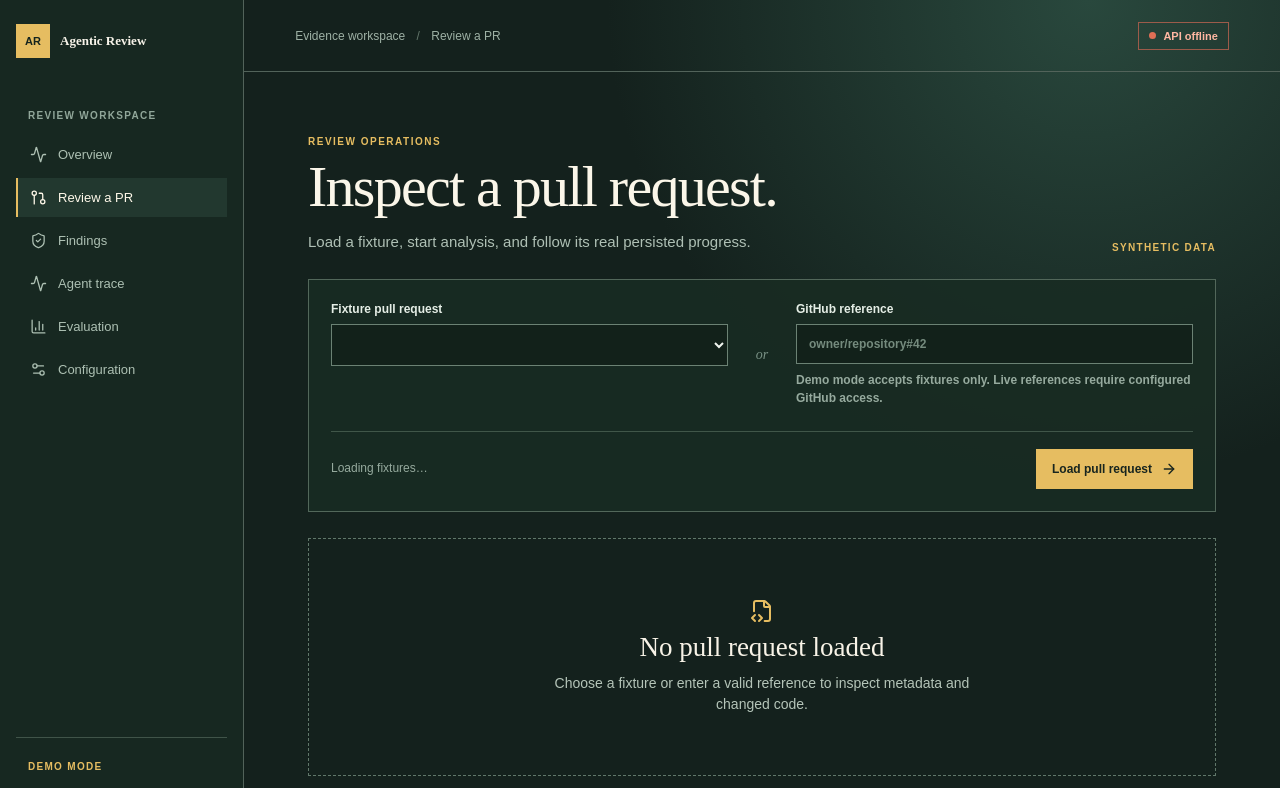
Test: dashboard › shows a loading skeleton while the preview request is pending
The image size is (1280, 788).
Click the link "Review a PR".
click(122, 198)  # box [16,178,227,217]
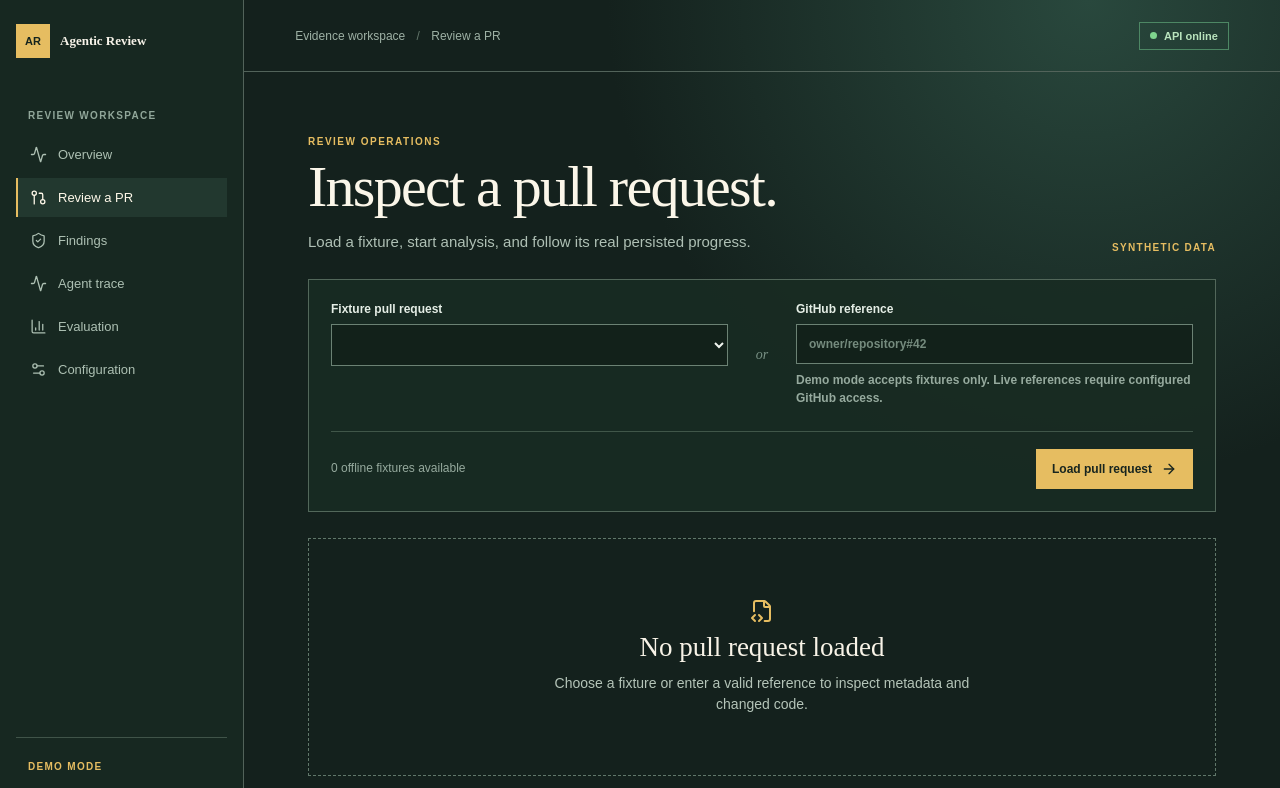
Expected: the heading "Inspect a pull request." is shown, [308,159,777,216]
Click the button "Load pull request".
click(1114, 469)  # box [1036,449,1193,489]
(page scrolled)
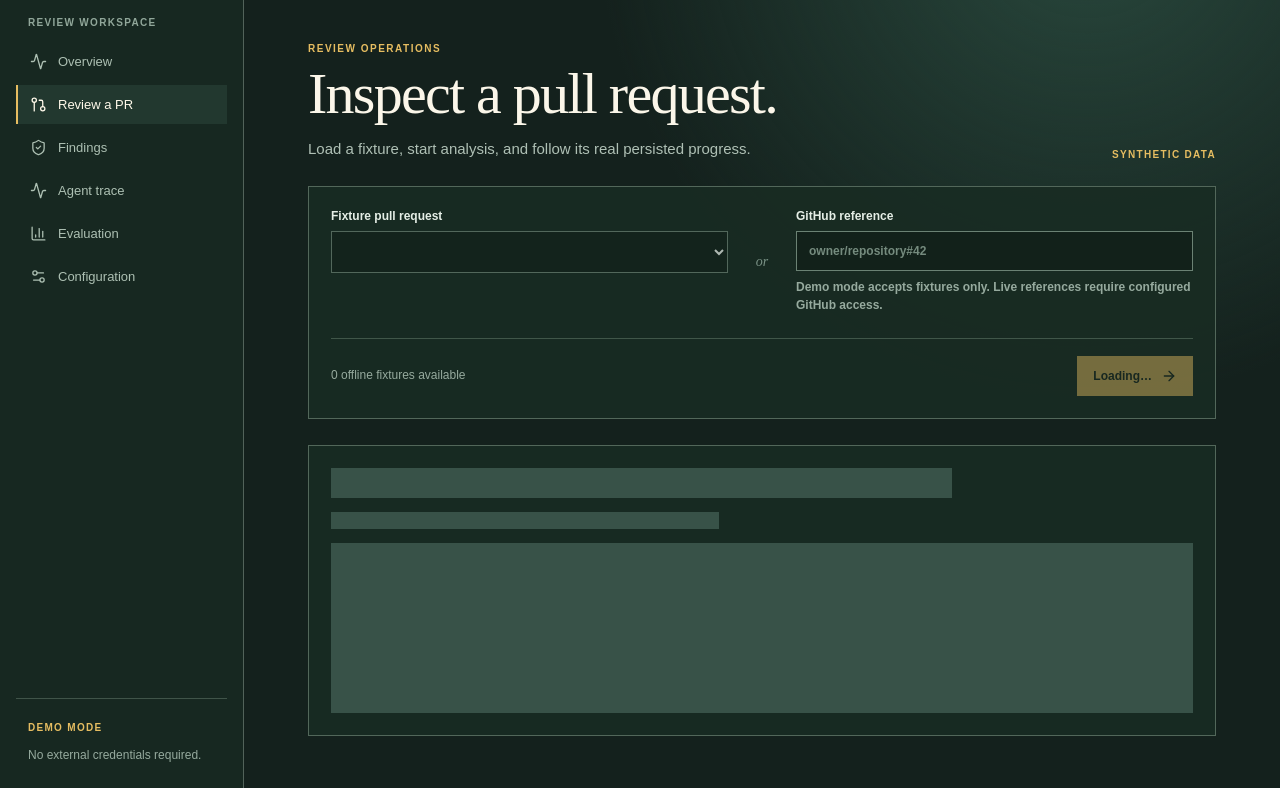
Result: the element named "Loading pull request" is shown at [308,445,1216,736]
